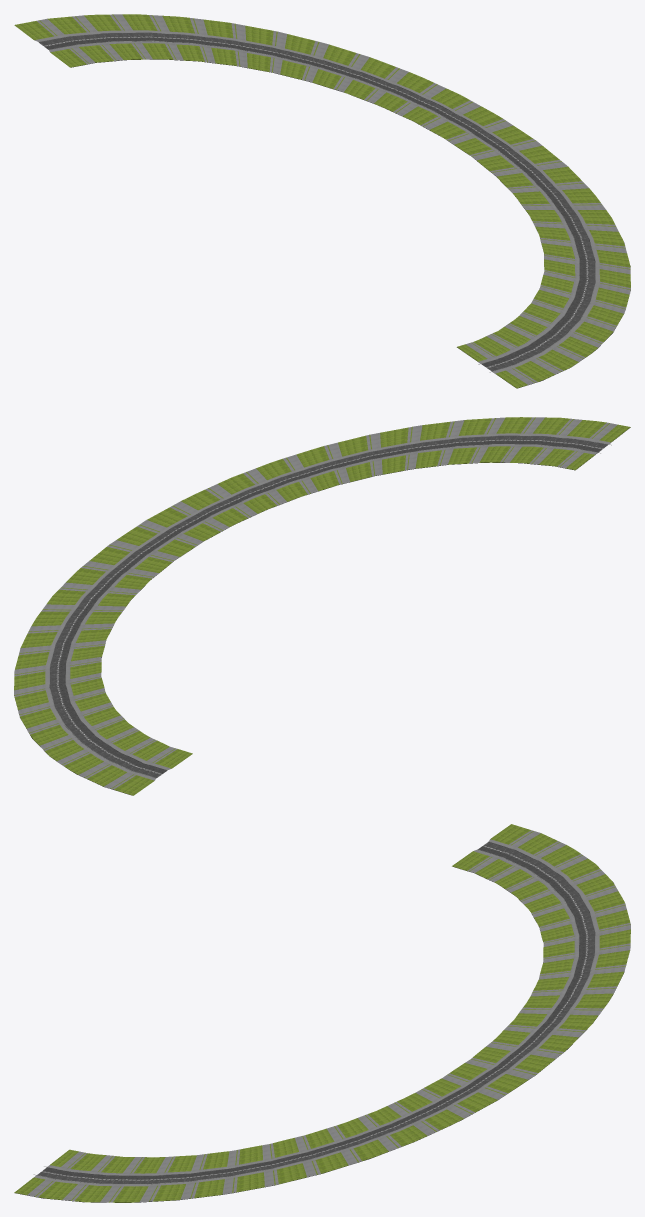
The model's file is Road Model.fbx.
3 views of the same model, one above another, from view 1: azimuth 30°, elevation 25°; view 2: azimuth 150°, elevation 25°; view 3: azimuth 330°, elevation 25° (orthographic).
Parts seen in each view (by area): view 1: Plane.001; view 2: Plane.001; view 3: Plane.001.
Boxes of the visible parts, x1,y1,x2,y2 form: Plane.001: (14, 14, 630, 388); Plane.001: (14, 417, 630, 795); Plane.001: (14, 824, 630, 1202).
Size of the model in its own units: 9387 by 29458 by 10.23.
